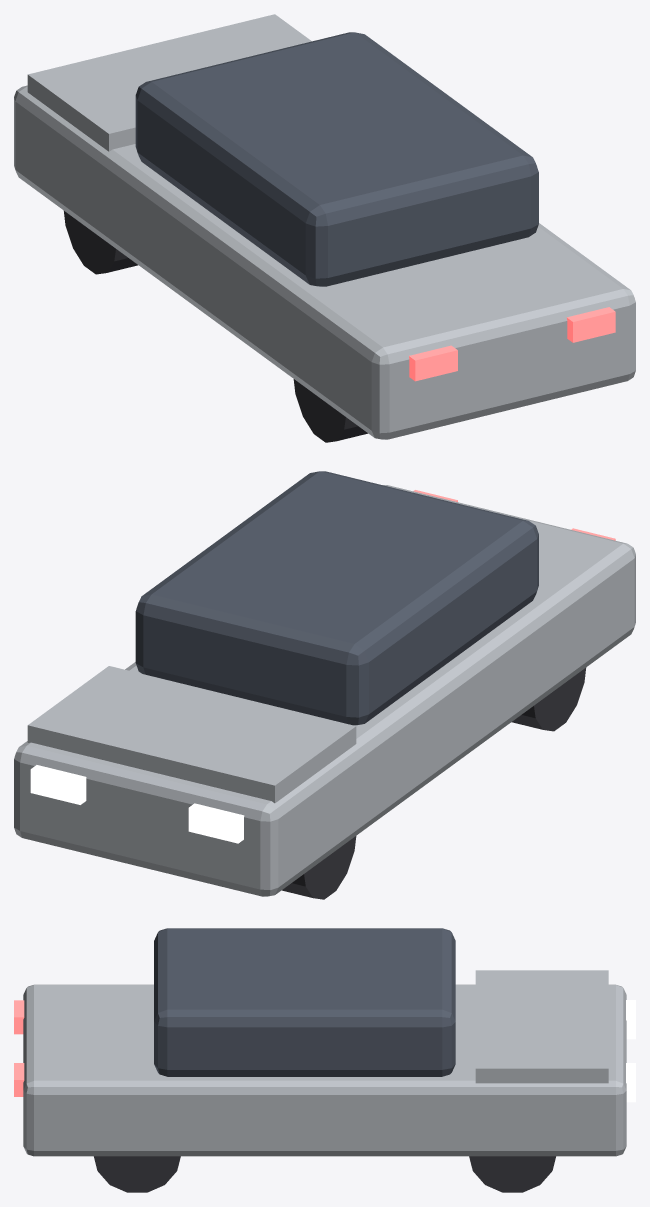
The model's file is bt-fh6-sedan.glb.
3 renders of one model, top to bottom at view 1: azimuth 30°, elevation 25°; view 2: azimuth 150°, elevation 25°; view 3: azimuth 270°, elevation 25°, orthographic. The views are drawn at different scales.
Visible parts, largest first — view 1: bt-fh6-sedan_lower, bt-fh6-sedan_cabin, bt-fh6-sedan_hood, bt-fh6-sedan_wh-0.7250000000000001_-1.4, bt-fh6-sedan_wh-0.7250000000000001_1.4, bt-fh6-sedan_tail1, bt-fh6-sedan_tail-1; view 2: bt-fh6-sedan_cabin, bt-fh6-sedan_lower, bt-fh6-sedan_hood, bt-fh6-sedan_wh-0.7250000000000001_1.4, bt-fh6-sedan_wh-0.7250000000000001_-1.4, bt-fh6-sedan_head1, bt-fh6-sedan_head-1; view 3: bt-fh6-sedan_lower, bt-fh6-sedan_cabin, bt-fh6-sedan_hood, bt-fh6-sedan_wh0.7250000000000001_-1.4, bt-fh6-sedan_wh0.7250000000000001_1.4, bt-fh6-sedan_head-1, bt-fh6-sedan_head1.
Boxes of the visible parts, <box> form: bt-fh6-sedan_lower: <box>14,85,635,439</box>; bt-fh6-sedan_cabin: <box>135,32,538,286</box>; bt-fh6-sedan_hood: <box>27,14,311,151</box>; bt-fh6-sedan_wh-0.7250000000000001_-1.4: <box>64,211,137,274</box>; bt-fh6-sedan_wh-0.7250000000000001_1.4: <box>293,379,367,442</box>; bt-fh6-sedan_tail1: <box>566,307,615,342</box>; bt-fh6-sedan_tail-1: <box>409,345,457,381</box>; bt-fh6-sedan_cabin: <box>135,471,538,725</box>; bt-fh6-sedan_lower: <box>14,485,635,896</box>; bt-fh6-sedan_hood: <box>27,666,356,803</box>; bt-fh6-sedan_wh-0.7250000000000001_1.4: <box>511,667,586,731</box>; bt-fh6-sedan_wh-0.7250000000000001_-1.4: <box>282,836,356,899</box>; bt-fh6-sedan_head1: <box>30,765,86,804</box>; bt-fh6-sedan_head-1: <box>188,803,244,843</box>; bt-fh6-sedan_lower: <box>23,984,626,1156</box>; bt-fh6-sedan_cabin: <box>154,928,455,1076</box>; bt-fh6-sedan_hood: <box>475,970,608,1083</box>; bt-fh6-sedan_wh0.7250000000000001_-1.4: <box>469,1156,555,1192</box>; bt-fh6-sedan_wh0.7250000000000001_1.4: <box>94,1156,180,1192</box>; bt-fh6-sedan_head-1: <box>626,1000,635,1039</box>; bt-fh6-sedan_head1: <box>626,1063,635,1102</box>.
Bounding box in the file's own units: 1.85 × 1.45 × 4.64.
